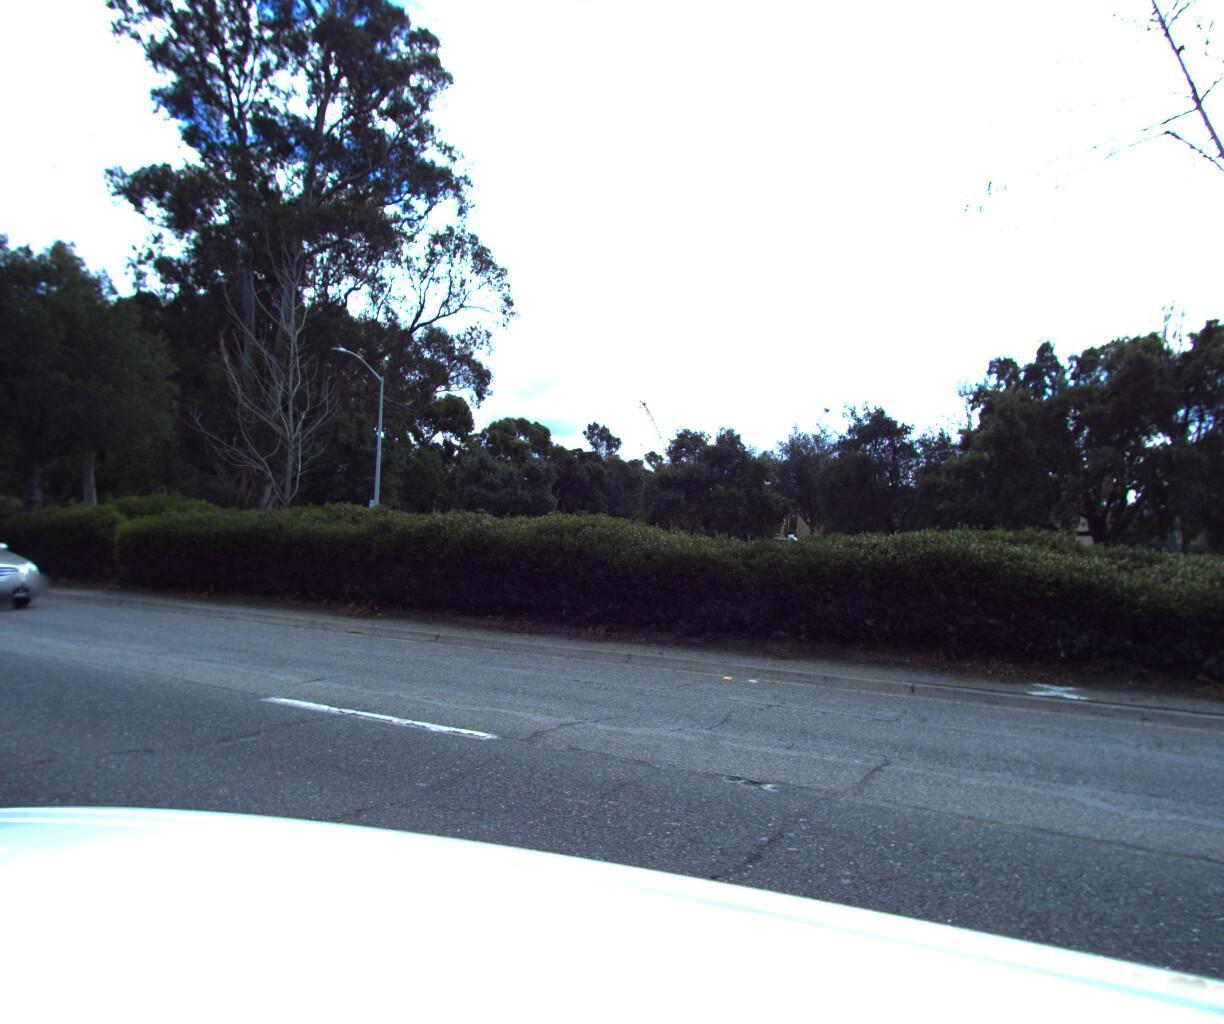car: (0, 516, 61, 622)
